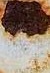Corrosion: (1, 1, 50, 37)
